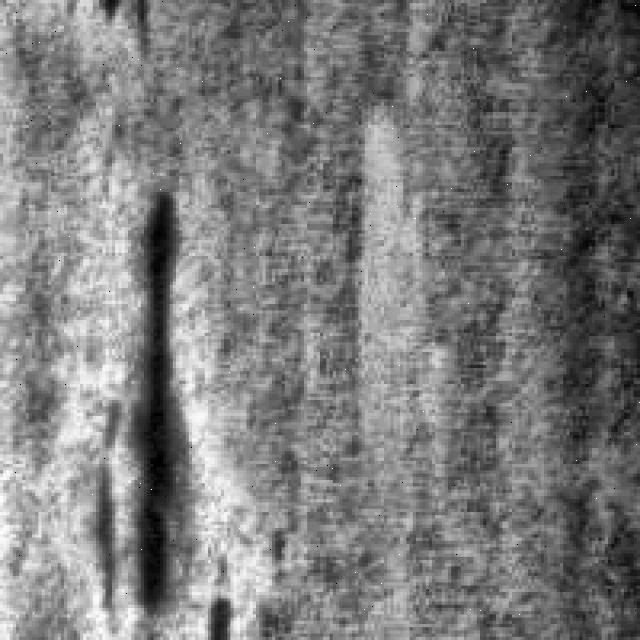Patches: (76, 176, 198, 621)
